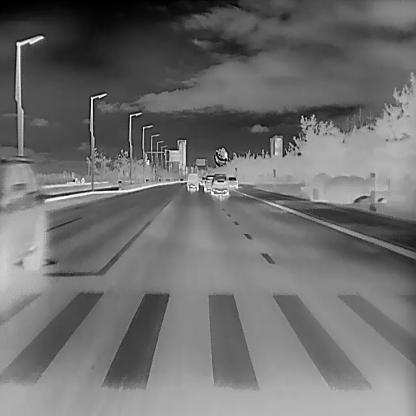car: (0, 156, 46, 274), (211, 172, 228, 198), (186, 173, 199, 191), (203, 174, 214, 192), (227, 176, 238, 191), (198, 176, 207, 186)
